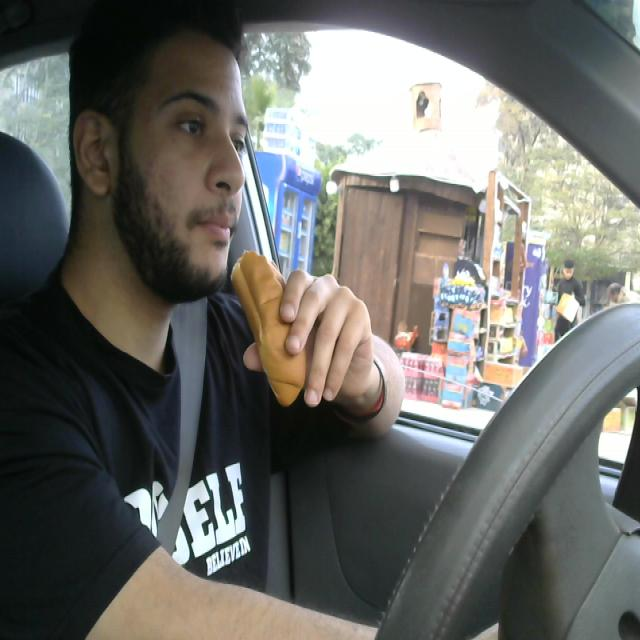eating: (226, 245, 319, 412)
